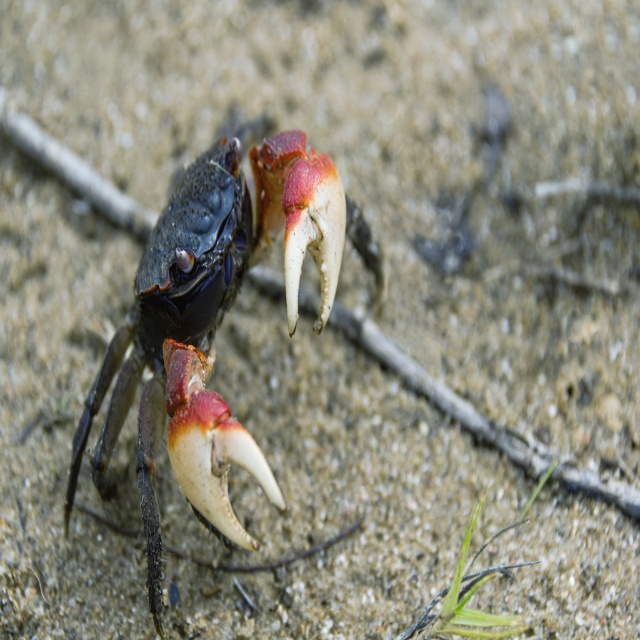Crab: (63, 129, 385, 640)
